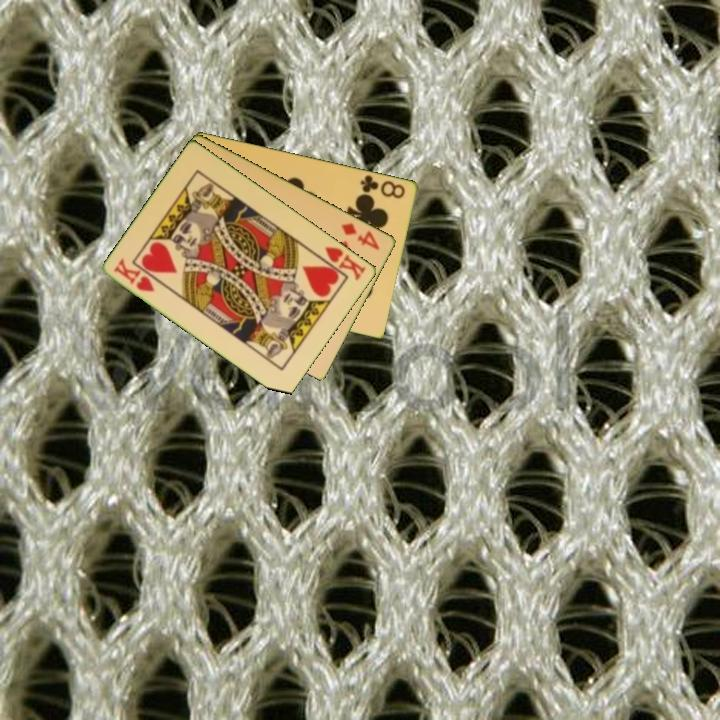4d: (338, 219, 383, 253)
8c: (357, 171, 408, 201)
Kh: (314, 243, 369, 284), (110, 255, 158, 295)
